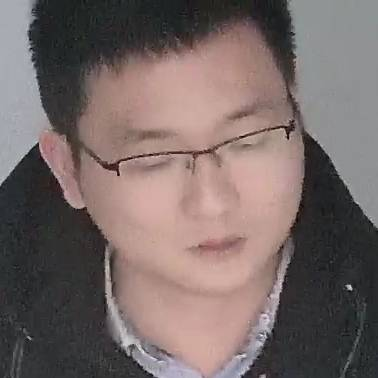gg: (27, 27, 323, 323)
